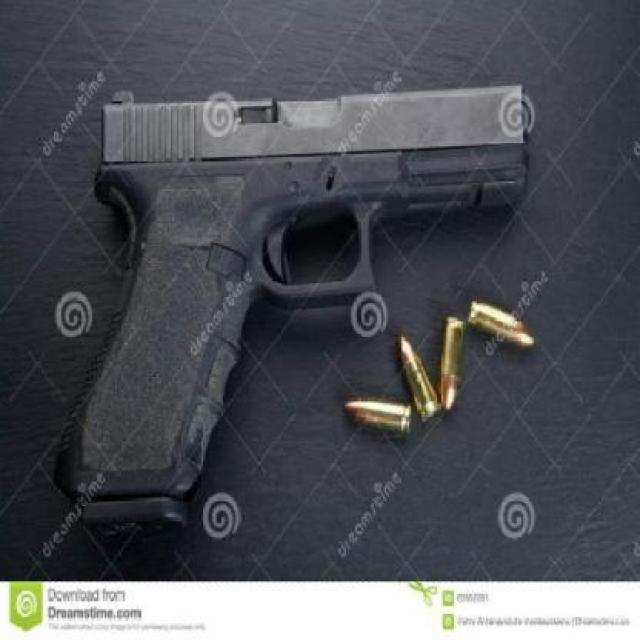gun: (23, 74, 545, 553)
